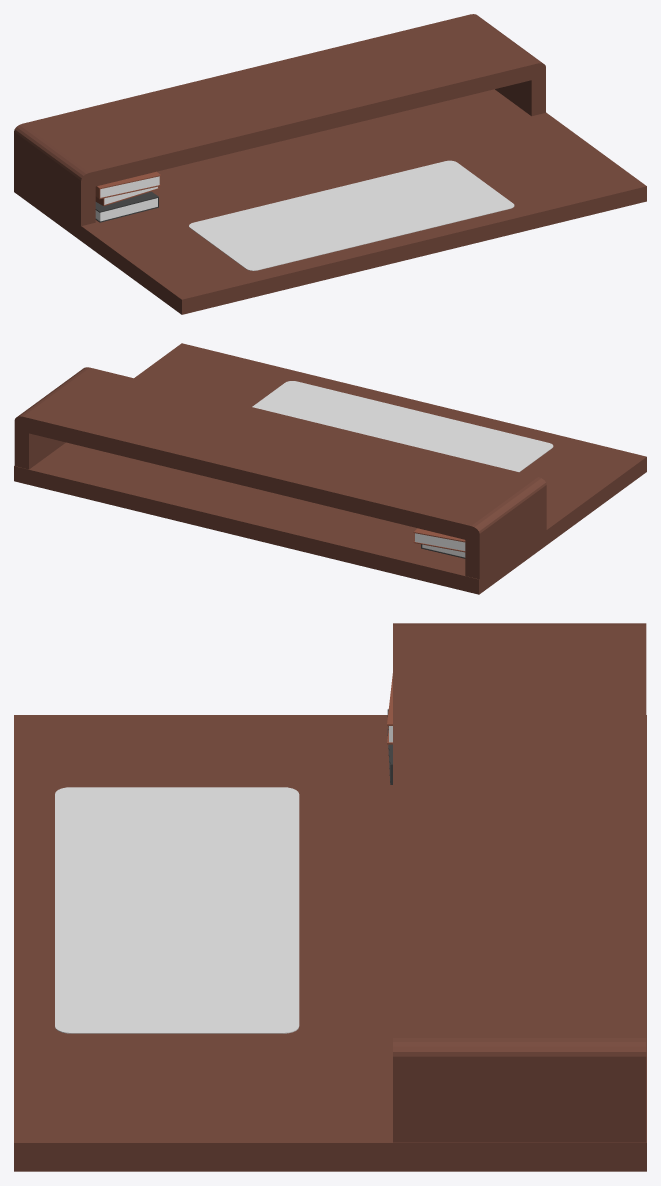
File: desk-set.glb
3 renders of one model, top to bottom at view 1: azimuth 30°, elevation 25°; view 2: azimuth 150°, elevation 25°; view 3: azimuth 270°, elevation 25°, orthographic. The views are drawn at different scales.
Parts seen in each view (by area): view 1: Cube, Cube.001, pad, cover.002, Cube.002, Cube.006, cover; view 2: Cube.001, Cube, pad, Cube.005; view 3: Cube.001, Cube, pad.
Part boxes in pixels (x1,y1,x2,y2): Cube: (14,89,646,314); Cube.001: (14,14,545,226); pad: (189,160,514,270); cover.002: (95,191,158,222); Cube.002: (95,198,157,221); Cube.006: (100,176,159,197); cover: (95,171,160,199); Cube.001: (14,367,546,579); Cube: (14,343,646,594); pad: (252,381,553,472); Cube.005: (415,533,465,550); Cube.001: (393,623,646,1142); Cube: (14,715,646,1171); pad: (55,787,299,1033).
Size of the model in its own units: 1.6 by 0.2187 by 1.
